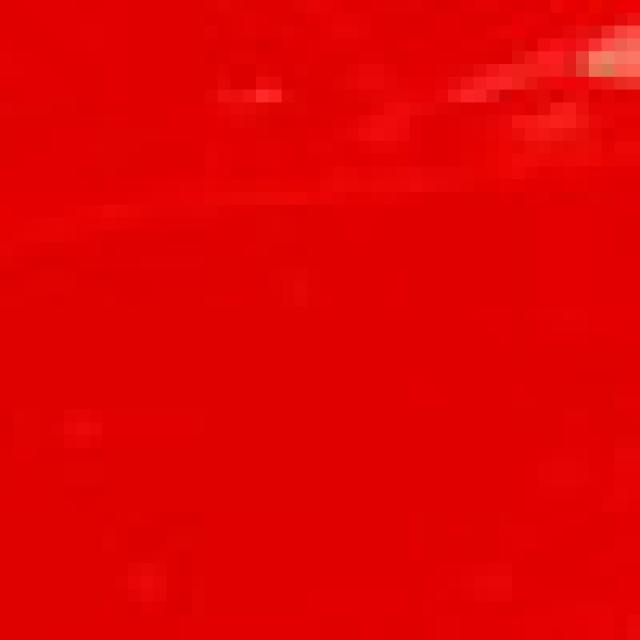no_fire: (38, 25, 639, 640)
